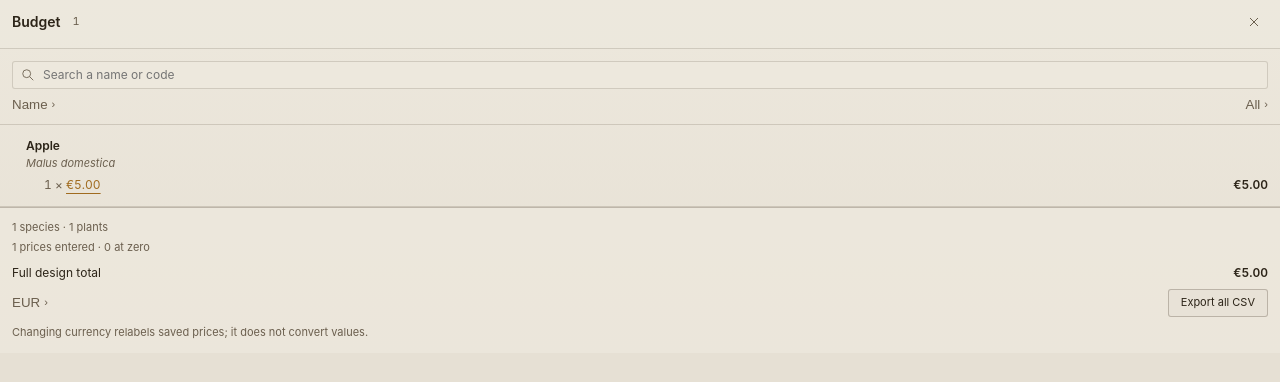
BudgetPanel export › shows non-cancelled export failures and retries through the workbench
Click the button "Export all CSV" at (1218, 303), box x1=1168 y1=289 x2=1268 y2=317
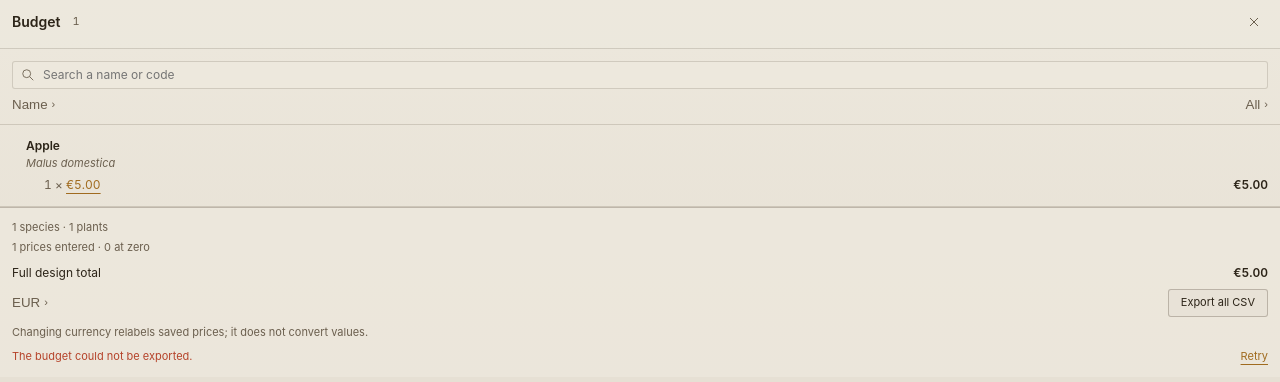
Expected: the message "The budget could not be exported. Retry" is shown, x1=12 y1=349 x2=1268 y2=365
Click the button "Retry" at (1254, 357), box x1=1241 y1=349 x2=1268 y2=365
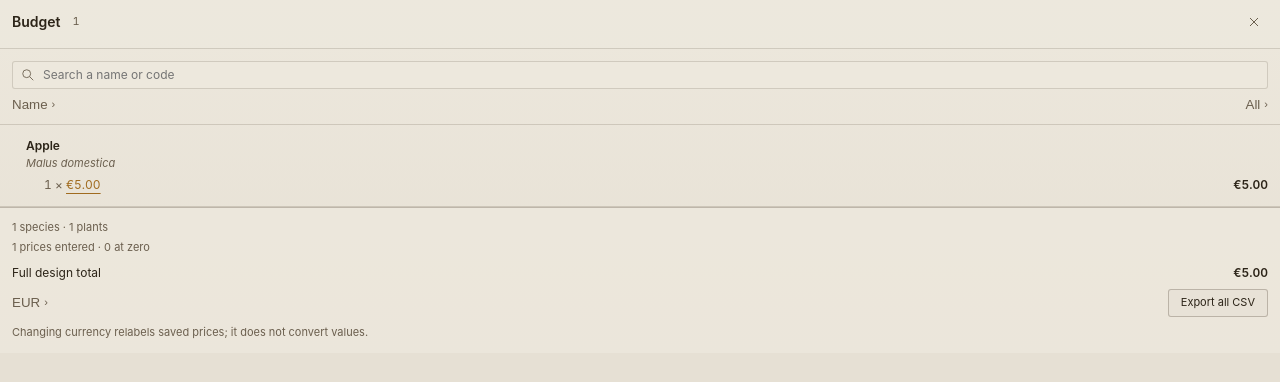
Expected: the message "The budget could not be exported. Retry" is gone
